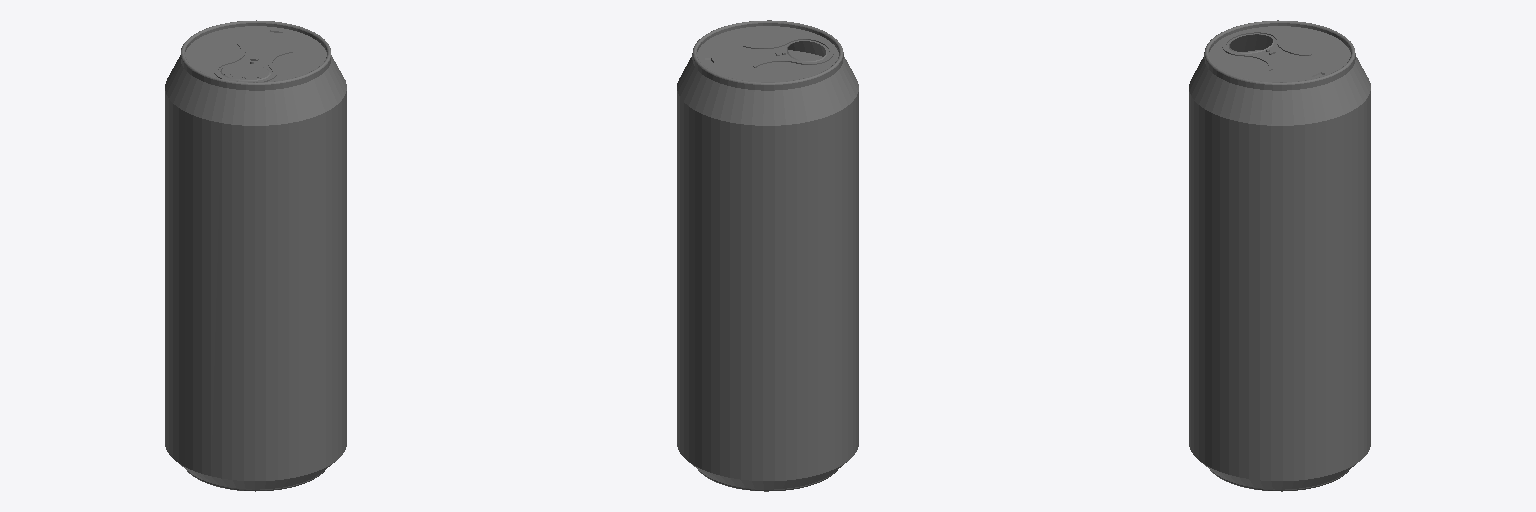
URDF robot description (object):
<?xml version="1.0"?>
<robot name="object">
  <link name="object">
    <visual>
      <origin xyz="0 0 0"/>
      <geometry>
        <mesh
          filename="../../mesh/oakink_virtual/can_s149.stl" />
      </geometry>
      <material name="mat">
        <color rgba="0.5 0.5 0.5 1"/>
      </material>
    </visual>

    <collision>
      <origin xyz="0 0 0"/>
      <geometry>
        <mesh
          filename="../../mesh/oakink_virtual/can_s149.stl" />
      </geometry>
    </collision>
  </link>
</robot>

--- What the picture shows (computed from the rendered views, not written in the file) ---
Views: 3 orthographic renders of the robot side by side, from view 1: azimuth 30°, elevation 25°; view 2: azimuth 150°, elevation 25°; view 3: azimuth 270°, elevation 25°.
Robot: object — 1 links, 0 joints (none); root link object; default pose: all joints at 0.
Links seen in each view (by area): view 1: object; view 2: object; view 3: object.
Boxes of the visible links, left/top/right/bottom form: object: left=165, top=20, right=346, bottom=491; object: left=677, top=20, right=858, bottom=491; object: left=1189, top=20, right=1370, bottom=491.
Bounding box of the posed robot: 0.054 × 0.054 × 0.134 m (x, y, z).
Meshes: 1 distinct files referenced, 1 mesh visuals loaded (1 binary STL).